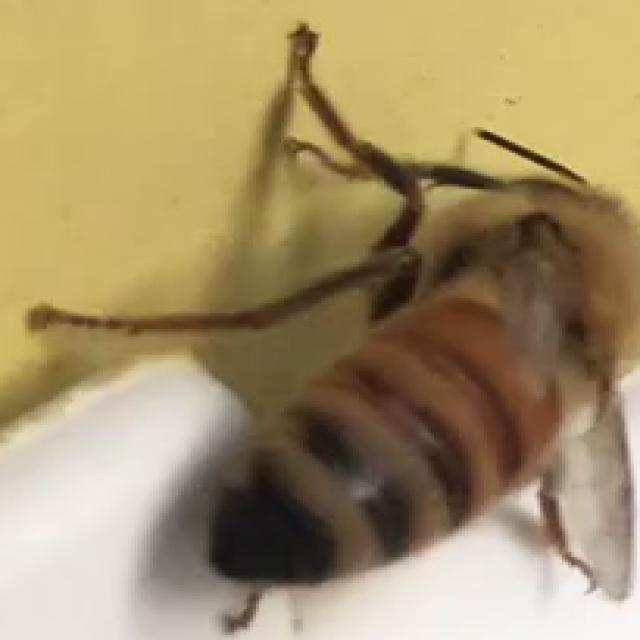honeybee: (154, 54, 620, 590)
